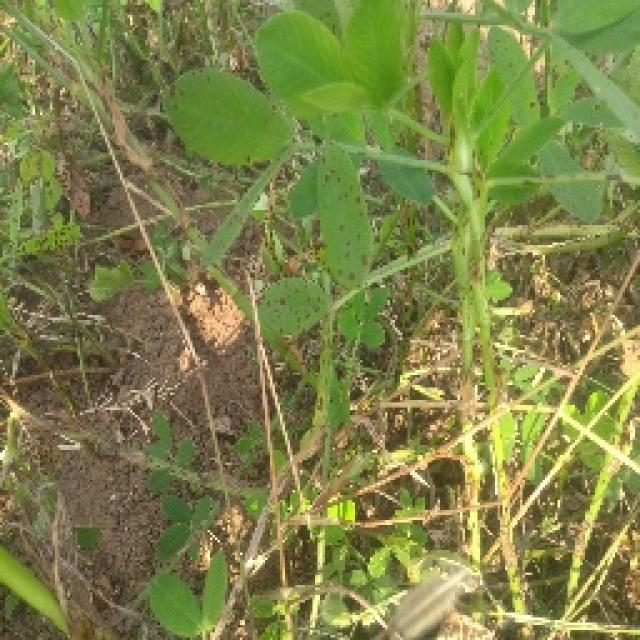Yellowish: (251, 129, 404, 393), (506, 25, 637, 147), (487, 117, 621, 214), (0, 115, 77, 261)
